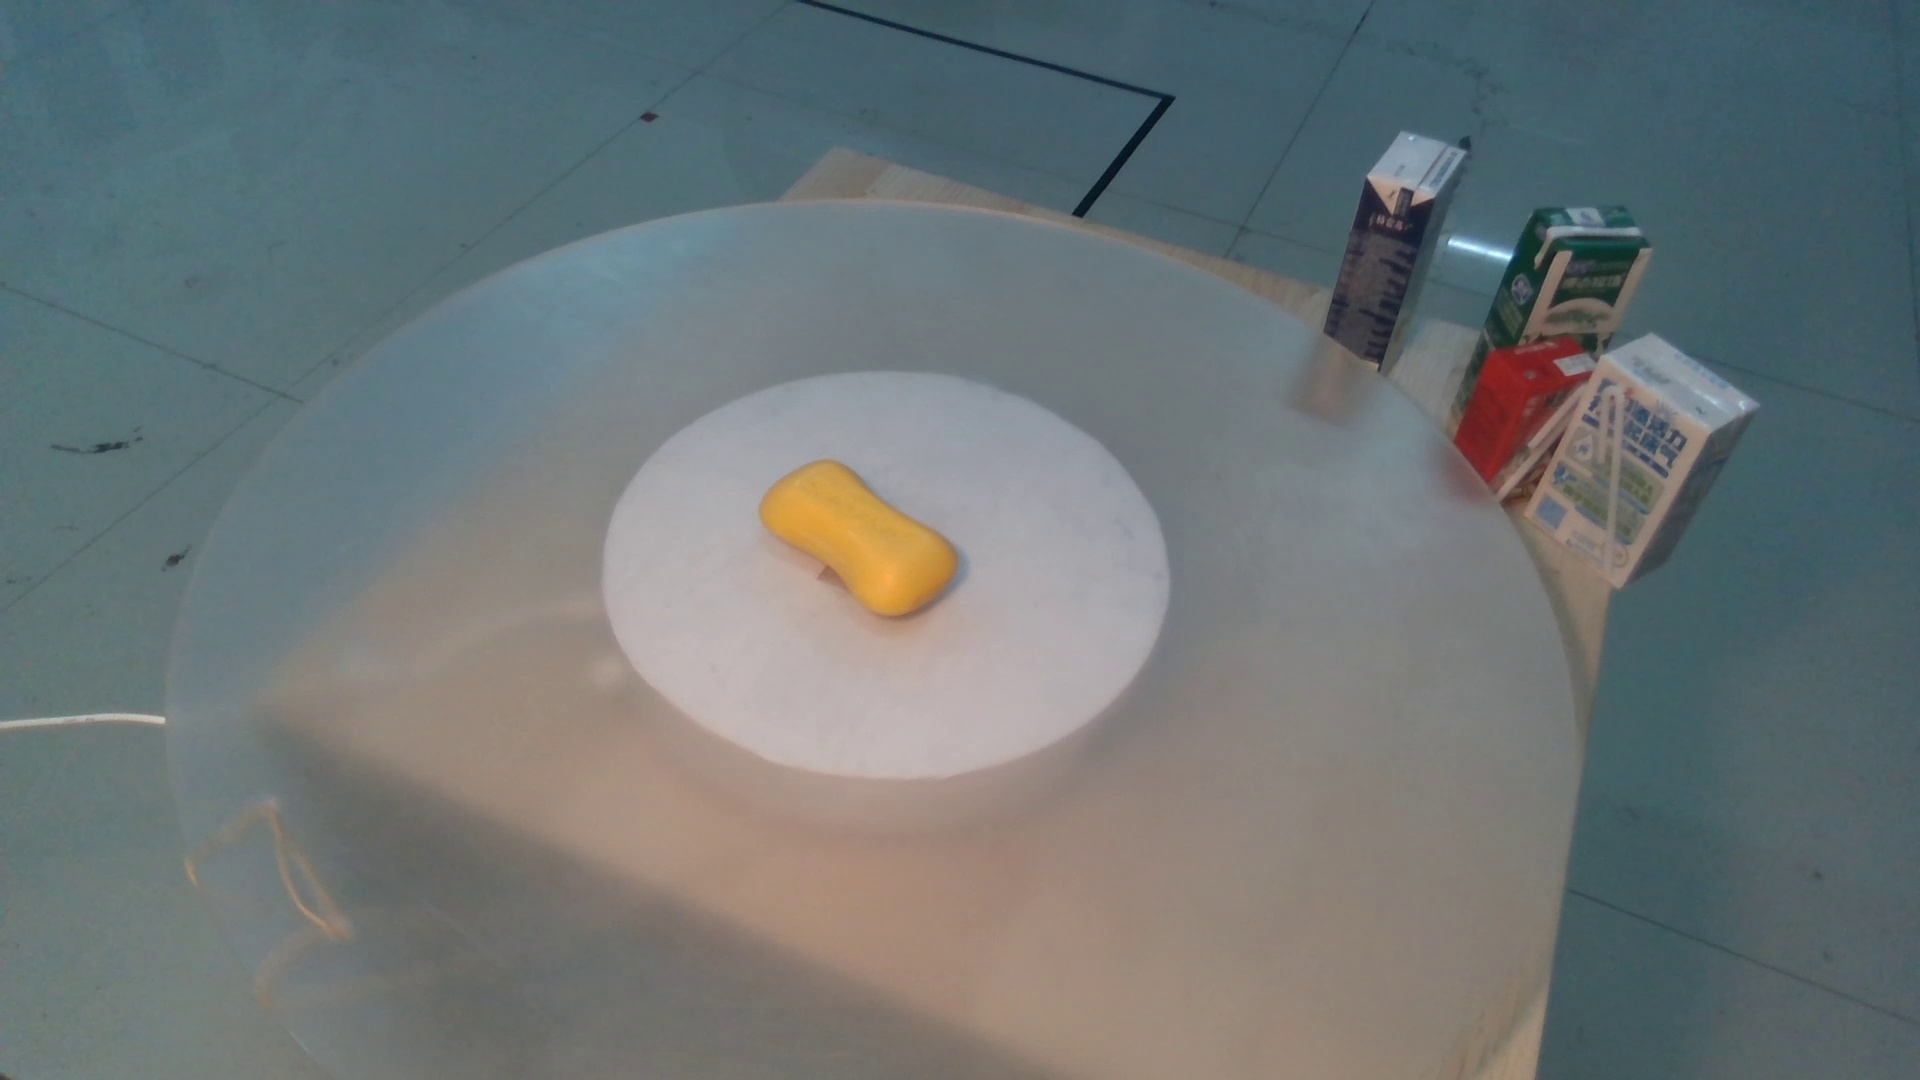CA003_1: (746, 438, 996, 640)
